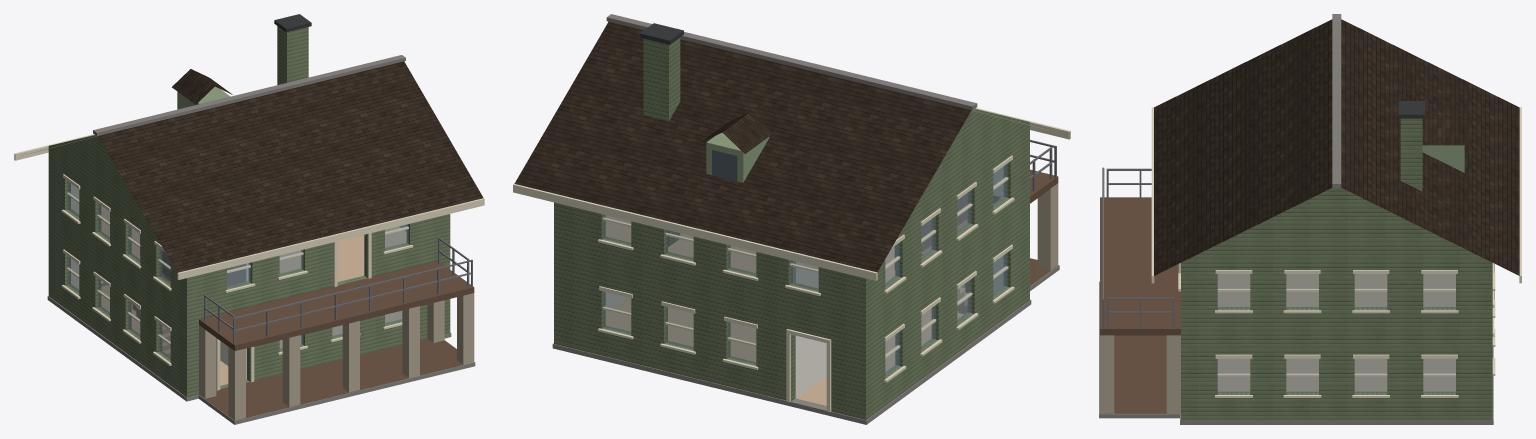
Rendered from rw-craftsman.towns-v1.lod0.glb.
3 renders of one model, left to right at view 1: azimuth 30°, elevation 25°; view 2: azimuth 150°, elevation 25°; view 3: azimuth 270°, elevation 25°, orthographic. The views are drawn at different scales.
Visible parts, largest first — view 1: rw-craftsman; view 2: rw-craftsman; view 3: rw-craftsman.
Part boxes in pixels (box(x1,y1,x2,y2)): rw-craftsman: box(14, 14, 484, 424); rw-craftsman: box(513, 14, 1070, 424); rw-craftsman: box(1099, 14, 1521, 424).
Size of the model in its own units: 12.9 by 10.14 by 13.57.
6 materials, 2 textured.
